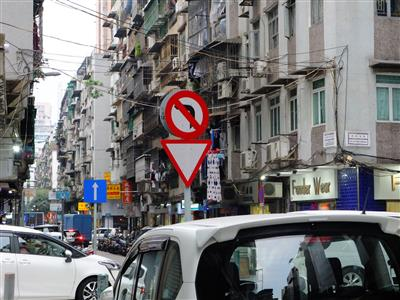noLeftTurn: (157, 86, 213, 140)
oneway: (81, 175, 109, 205)
yield: (156, 135, 214, 187)
